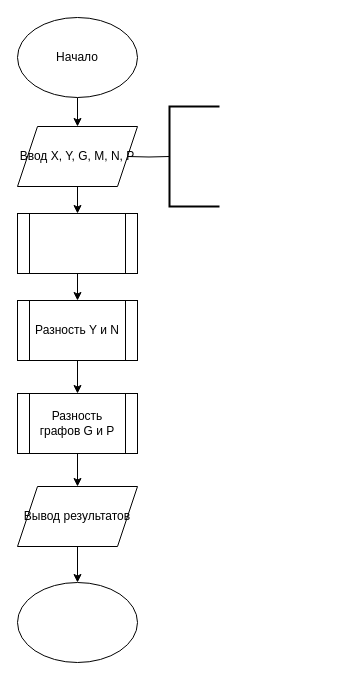
This 346x680 diagram has some shape labels left out. The shapes that lost their labels are listed below. From the top down, each one's box as (x1, y1, x2, y2) in pixels, then its label:
(168, 105, 220, 207): X, Y, M, N - множества G, P - гарфики соответствия
(16, 212, 138, 274): Разность X и M
(16, 582, 138, 662): Конец
